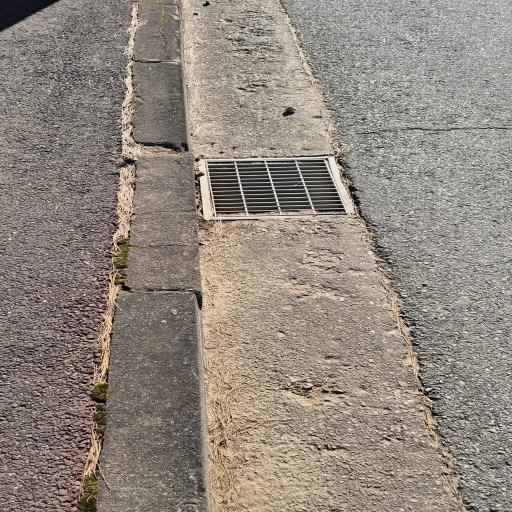drain: (199, 156, 356, 219)
